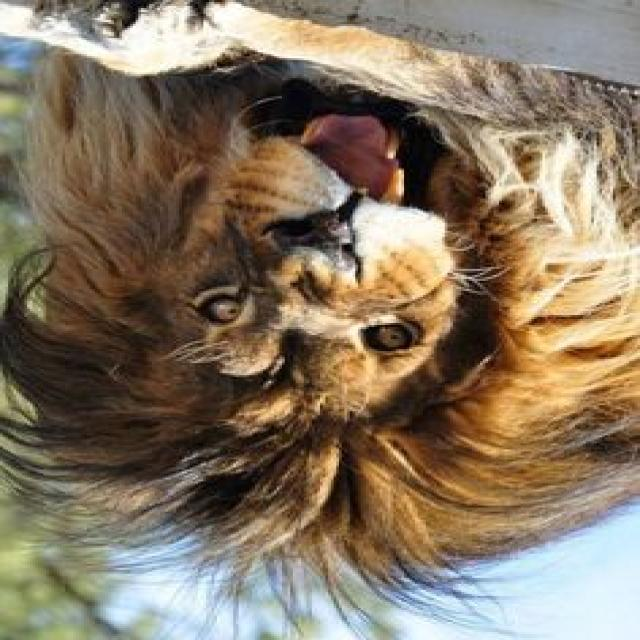lions: (0, 0, 640, 631)
